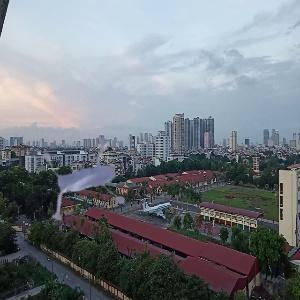drone: (16, 113, 159, 256)
